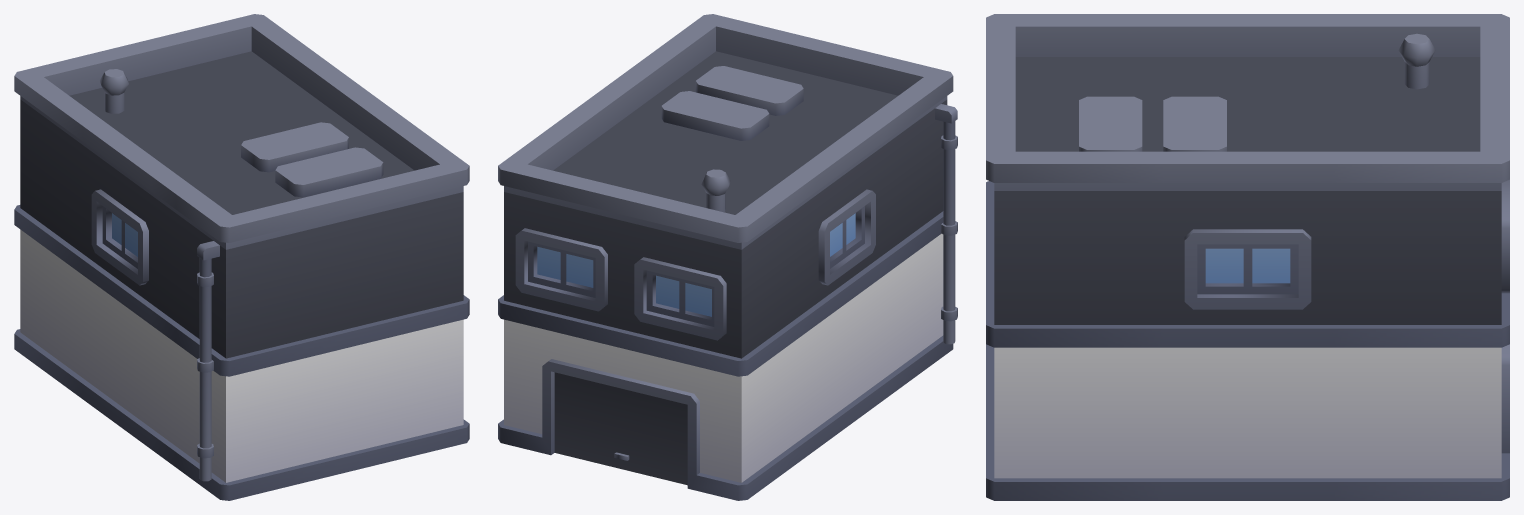
File: building-o_lev1.glb
3 views of the same model, side by side, from view 1: azimuth 30°, elevation 25°; view 2: azimuth 150°, elevation 25°; view 3: azimuth 270°, elevation 25° (orthographic). The views are drawn at different scales.
Parts seen in each view (by area): view 1: building-o_lev1; view 2: building-o_lev1; view 3: building-o_lev1.
Part boxes in pixels (box(x1,y1,x2,y2)): building-o_lev1: box(14, 14, 469, 500); building-o_lev1: box(498, 14, 957, 500); building-o_lev1: box(986, 14, 1509, 500).
Size of the model in its own units: 4.56 by 4.74 by 6.4.
Materials: 1 (1 with a texture image).
